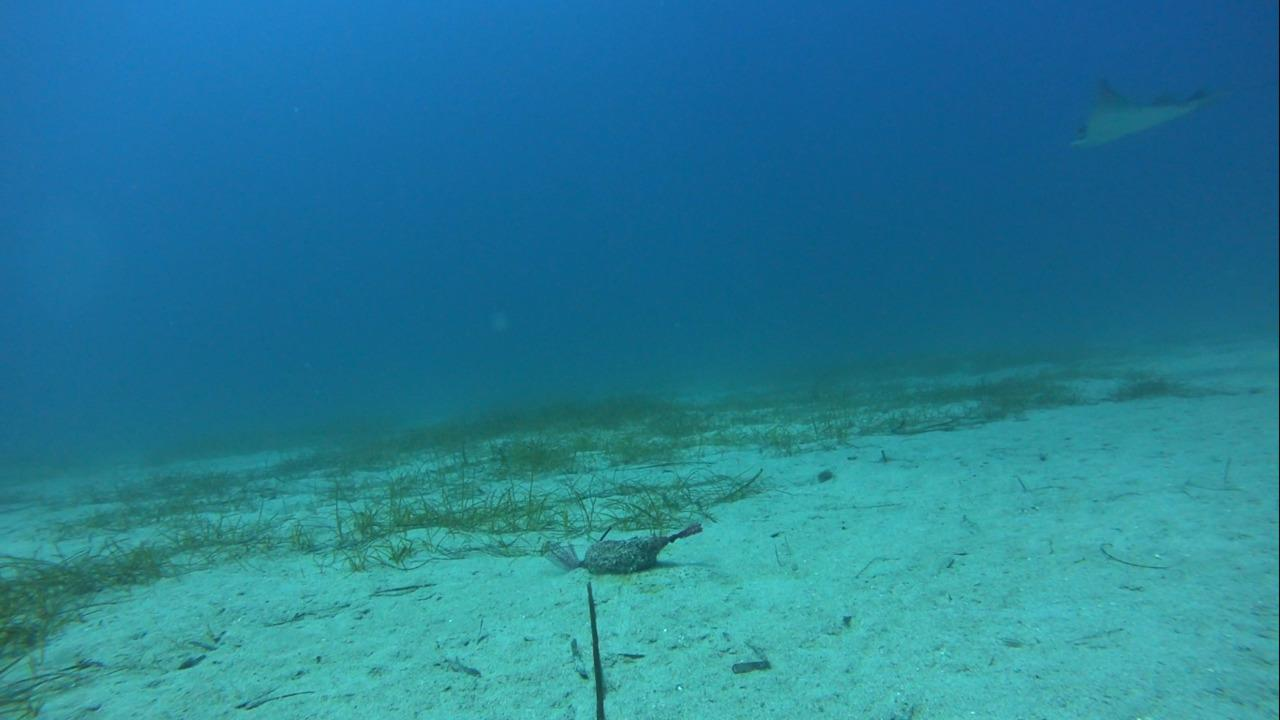myliobatis: (1052, 70, 1279, 164)
